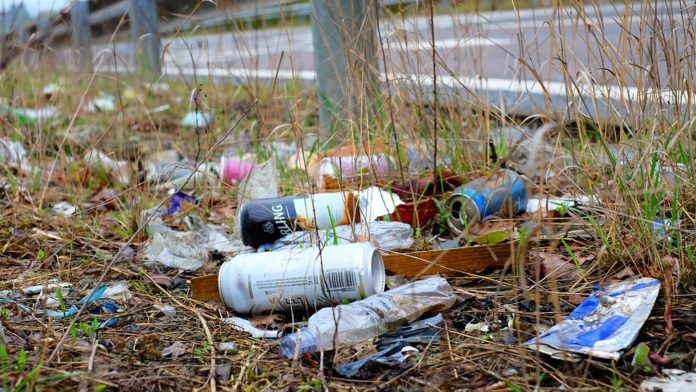Botella: (233, 246, 379, 309), (245, 180, 376, 235), (453, 169, 512, 231)
